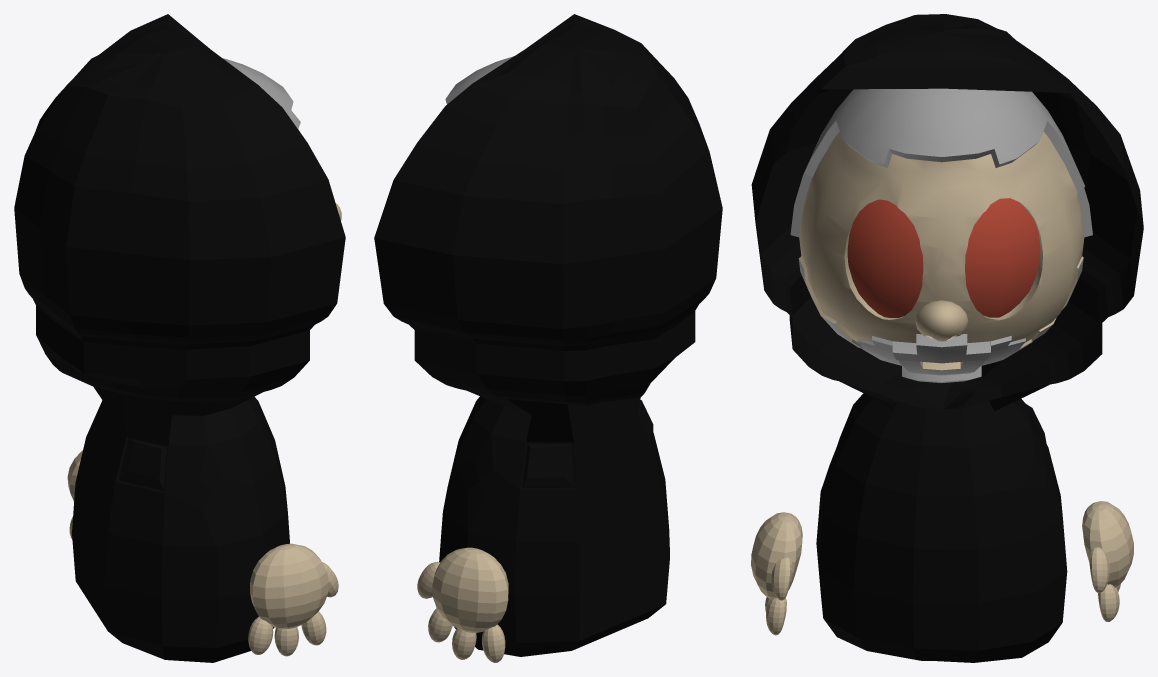
Rendered from hooded cloth guy blend.fbx.
3 views of the same model, side by side, from view 1: azimuth 30°, elevation 25°; view 2: azimuth 150°, elevation 25°; view 3: azimuth 270°, elevation 25° (orthographic). The views are drawn at different scales.
Parts seen in each view (by area): view 1: Sphere, Sphere.009, Sphere.001, Sphere.016, Sphere.017, Sphere.018; view 2: Sphere, Sphere.008, Sphere.014, Sphere.001, Sphere.013, Sphere.012, Sphere.011; view 3: Sphere, Sphere.001, Sphere.019, Sphere.008, Sphere.009, Sphere.024, Sphere.011, Sphere.015, Sphere.018, Sphere.012.
Boxes of the visible parts, box(x1,y1,x2,y2) form: Sphere: box(14, 14, 345, 662); Sphere.009: box(250, 543, 329, 628); Sphere.001: box(223, 58, 300, 131); Sphere.016: box(248, 617, 273, 654); Sphere.017: box(274, 627, 298, 656); Sphere.018: box(301, 611, 326, 645); Sphere: box(374, 14, 722, 656); Sphere.008: box(432, 547, 508, 632); Sphere.014: box(482, 624, 505, 662); Sphere.001: box(445, 56, 514, 104); Sphere.013: box(452, 628, 476, 659); Sphere.012: box(428, 608, 452, 642); Sphere.011: box(417, 561, 439, 598); Sphere: box(751, 14, 1143, 662); Sphere.001: box(790, 88, 1092, 383); Sphere.019: box(847, 198, 1040, 317); Sphere.008: box(1082, 501, 1133, 587); Sphere.009: box(751, 512, 802, 599); Sphere.024: box(915, 300, 968, 341); Sphere.011: box(1089, 547, 1109, 592); Sphere.015: box(771, 557, 792, 600); Sphere.018: box(766, 598, 786, 635); Sphere.012: box(1098, 584, 1118, 621).
Size of the model in its own units: 128 by 235 by 142.
